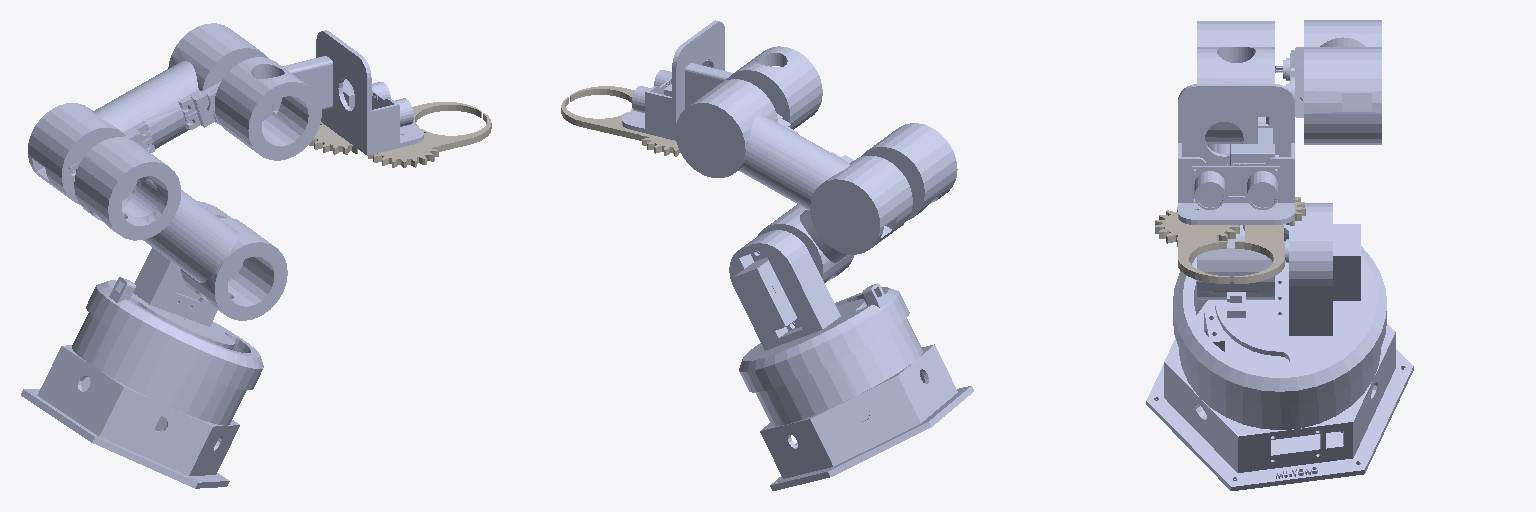
The robot description file, URDF, robot "urdfmulyono":
<?xml version="1.0" encoding="utf-8"?>
<!-- This URDF was automatically created by SolidWorks to URDF Exporter! Originally created by [author] ([email redacted]) 
     Commit Version: 1.6.0-4-g7f85cfe  Build Version: 1.6.7995.38578
     For more information, please see http://wiki.ros.org/sw_urdf_exporter -->
<robot
  name="urdfmulyono">
  <link
    name="base_link">
    <inertial>
      <origin
        xyz="0.0166937833046382 -0.000309862305232422 0.0299743788723315"
        rpy="0 0 0" />
      <mass
        value="0.15690853286764" />
      <inertia
        ixx="0.00026569633360328"
        ixy="1.30405420561727E-06"
        ixz="5.14473532048672E-05"
        iyy="0.000229112300024644"
        iyz="-6.51632992399048E-07"
        izz="0.000326564872640199" />
    </inertial>
    <visual>
      <origin
        xyz="0 0 0"
        rpy="0 0 0" />
      <geometry>
        <mesh
          filename="package://urdfmulyono/meshes/base_link.STL" />
      </geometry>
      <material
        name="">
        <color
          rgba="0.792156862745098 0.819607843137255 0.933333333333333 1" />
      </material>
    </visual>
    <collision>
      <origin
        xyz="0 0 0"
        rpy="0 0 0" />
      <geometry>
        <mesh
          filename="package://urdfmulyono/meshes/base_link.STL" />
      </geometry>
    </collision>
  </link>
  <link
    name="link1">
    <inertial>
      <origin
        xyz="0.00914323497729499 0.0132973747425829 0.0162178486493966"
        rpy="0 0 0" />
      <mass
        value="0.110824441479" />
      <inertia
        ixx="8.65028339256001E-05"
        ixy="-4.62264305472077E-06"
        ixz="2.67580443033616E-07"
        iyy="9.13032174360508E-05"
        iyz="-7.40703304618567E-06"
        izz="8.7195731149544E-05" />
    </inertial>
    <visual>
      <origin
        xyz="0 0 0"
        rpy="0 0 0" />
      <geometry>
        <mesh
          filename="package://urdfmulyono/meshes/link1.STL" />
      </geometry>
      <material
        name="">
        <color
          rgba="0.792156862745098 0.819607843137255 0.933333333333333 1" />
      </material>
    </visual>
    <collision>
      <origin
        xyz="0 0 0"
        rpy="0 0 0" />
      <geometry>
        <mesh
          filename="package://urdfmulyono/meshes/link1.STL" />
      </geometry>
    </collision>
  </link>
  <joint
    name="joint1"
    type="revolute">
    <origin
      xyz="0.040938 0 0.069894"
      rpy="0 0 0" />
    <parent
      link="base_link" />
    <child
      link="link1" />
    <axis
      xyz="-0.5054 0 -0.86288" />
    <limit
      lower="-3.14"
      upper="3.14"
      effort="1.08"
      velocity="7.48" />
  </joint>
  <link
    name="link2">
    <inertial>
      <origin
        xyz="-0.0351867055247956 0.0212735978679839 -0.0349408015164657"
        rpy="0 0 0" />
      <mass
        value="0.120061907266315" />
      <inertia
        ixx="0.000154939294692805"
        ixy="-1.27374892303535E-07"
        ixz="-0.000119330328213792"
        iyy="0.000284291373566287"
        iyz="6.08124993287784E-08"
        izz="0.000165817658815422" />
    </inertial>
    <visual>
      <origin
        xyz="0 0 0"
        rpy="0 0 0" />
      <geometry>
        <mesh
          filename="package://urdfmulyono/meshes/link2.STL" />
      </geometry>
      <material
        name="">
        <color
          rgba="0.792156862745098 0.819607843137255 0.933333333333333 1" />
      </material>
    </visual>
    <collision>
      <origin
        xyz="0 0 0"
        rpy="0 0 0" />
      <geometry>
        <mesh
          filename="package://urdfmulyono/meshes/link2.STL" />
      </geometry>
    </collision>
  </link>
  <joint
    name="joint2"
    type="revolute">
    <origin
      xyz="0.021275 0 0.036474"
      rpy="-3.1416 0 0" />
    <parent
      link="link1" />
    <child
      link="link2" />
    <axis
      xyz="0 -1 0" />
    <limit
      lower="-3.14"
      upper="3.14"
      effort="1.08"
      velocity="7.48" />
  </joint>
  <link
    name="link3">
    <inertial>
      <origin
        xyz="0.0477530624149685 0.0301358791840253 0.0148377529080409"
        rpy="0 0 0" />
      <mass
        value="0.207694596845151" />
      <inertia
        ixx="8.03357037303349E-05"
        ixy="4.74028191276957E-12"
        ixz="-8.08420035425255E-05"
        iyy="0.000347203357159494"
        iyz="-6.52181268920224E-12"
        izz="0.000317420355935025" />
    </inertial>
    <visual>
      <origin
        xyz="0 0 0"
        rpy="0 0 0" />
      <geometry>
        <mesh
          filename="package://urdfmulyono/meshes/link3.STL" />
      </geometry>
      <material
        name="">
        <color
          rgba="0.792156862745098 0.819607843137255 0.933333333333333 1" />
      </material>
    </visual>
    <collision>
      <origin
        xyz="0 0 0"
        rpy="0 0 0" />
      <geometry>
        <mesh
          filename="package://urdfmulyono/meshes/link3.STL" />
      </geometry>
    </collision>
  </link>
  <joint
    name="joint3"
    type="revolute">
    <origin
      xyz="-0.072317 0 -0.069067"
      rpy="3.1416 0 0" />
    <parent
      link="link2" />
    <child
      link="link3" />
    <axis
      xyz="0 1 0" />
    <limit
      lower="-3.14"
      upper="3.14"
      effort="1.08"
      velocity="7.48" />
  </joint>
  <link
    name="link4">
    <inertial>
      <origin
        xyz="0.0267404166783254 -0.0205881276478526 -0.00631003307450173"
        rpy="0 0 0" />
      <mass
        value="0.0812195592569813" />
      <inertia
        ixx="3.43653679349045E-05"
        ixy="6.3312545886204E-07"
        ixz="1.14851435535687E-05"
        iyy="8.40003748377515E-05"
        iyz="-4.33159561547592E-07"
        izz="8.22060041409688E-05" />
    </inertial>
    <visual>
      <origin
        xyz="0 0 0"
        rpy="0 0 0" />
      <geometry>
        <mesh
          filename="package://urdfmulyono/meshes/link4.STL" />
      </geometry>
      <material
        name="">
        <color
          rgba="0.792156862745098 0.819607843137255 0.933333333333333 1" />
      </material>
    </visual>
    <collision>
      <origin
        xyz="0 0 0"
        rpy="0 0 0" />
      <geometry>
        <mesh
          filename="package://urdfmulyono/meshes/link4.STL" />
      </geometry>
    </collision>
  </link>
  <joint
    name="joint4"
    type="revolute">
    <origin
      xyz="0.095506 0 0.029675"
      rpy="0 0 0" />
    <parent
      link="link3" />
    <child
      link="link4" />
    <axis
      xyz="0 1 0" />
    <limit
      lower="-3.14"
      upper="3.14"
      effort="1.08"
      velocity="7.48" />
  </joint>
  <link
    name="gripmotor">
    <inertial>
      <origin
        xyz="0.0171980439053835 -0.000894797559375359 -0.00194711687305574"
        rpy="0 0 0" />
      <mass
        value="0.00764762460244494" />
      <inertia
        ixx="6.16365785437075E-07"
        ixy="2.35015677744722E-07"
        ixz="2.9511076533564E-09"
        iyy="4.80510681079049E-06"
        iyz="-2.64742337248202E-10"
        izz="5.4011217056991E-06" />
    </inertial>
    <visual>
      <origin
        xyz="0 0 0"
        rpy="0 0 0" />
      <geometry>
        <mesh
          filename="package://urdfmulyono/meshes/gripmotor.STL" />
      </geometry>
      <material
        name="">
        <color
          rgba="0.776470588235294 0.756862745098039 0.737254901960784 1" />
      </material>
    </visual>
    <collision>
      <origin
        xyz="0 0 0"
        rpy="0 0 0" />
      <geometry>
        <mesh
          filename="package://urdfmulyono/meshes/gripmotor.STL" />
      </geometry>
    </collision>
  </link>
  <joint
    name="gripmotor"
    type="revolute">
    <origin
      xyz="0.059 -0.00871 -0.039"
      rpy="3.1416 0 0" />
    <parent
      link="link4" />
    <child
      link="gripmotor" />
    <axis
      xyz="0 0 1" />
    <limit
      lower="-3.14"
      upper="3.14"
      effort="0.21575"
      velocity="10.47" />
  </joint>
  <link
    name="end">
    <inertial>
      <origin
        xyz="-0.068885395938565 -0.0156614452707053 -0.00194711687305121"
        rpy="0 0 0" />
      <mass
        value="0.00764762460244494" />
      <inertia
        ixx="6.16365785437075E-07"
        ixy="2.35015677744722E-07"
        ixz="2.95110765335556E-09"
        iyy="4.80510681079049E-06"
        iyz="-2.64742337247382E-10"
        izz="5.4011217056991E-06" />
    </inertial>
    <visual>
      <origin
        xyz="0 0 0"
        rpy="0 0 0" />
      <geometry>
        <mesh
          filename="package://urdfmulyono/meshes/end.STL" />
      </geometry>
      <material
        name="">
        <color
          rgba="0.776470588235294 0.756862745098039 0.737254901960784 1" />
      </material>
    </visual>
    <collision>
      <origin
        xyz="0 0 0"
        rpy="0 0 0" />
      <geometry>
        <mesh
          filename="package://urdfmulyono/meshes/end.STL" />
      </geometry>
    </collision>
  </link>
  <joint
    name="end"
    type="fixed">
    <origin
      xyz="0.0860834398439485 0.0147666477113299 0"
      rpy="0 0 0" />
    <parent
      link="gripmotor" />
    <child
      link="end" />
    <axis
      xyz="0 0 0" />
  </joint>
  <link
    name="gripikut">
    <inertial>
      <origin
        xyz="0.00858720008516745 0.000597927867532717 -0.00199999999994283"
        rpy="0 0 0" />
      <mass
        value="0.00641643405685645" />
      <inertia
        ixx="5.53159974859924E-07"
        ixy="-9.4933452454066E-08"
        ixz="-5.50915522850117E-19"
        iyy="2.24107290854717E-06"
        iyz="-2.37362843543324E-20"
        izz="2.77712239258881E-06" />
    </inertial>
    <visual>
      <origin
        xyz="0 0 0"
        rpy="0 0 0" />
      <geometry>
        <mesh
          filename="package://urdfmulyono/meshes/gripikut.STL" />
      </geometry>
      <material
        name="">
        <color
          rgba="0.776470588235294 0.756862745098039 0.737254901960784 1" />
      </material>
    </visual>
    <collision>
      <origin
        xyz="0 0 0"
        rpy="0 0 0" />
      <geometry>
        <mesh
          filename="package://urdfmulyono/meshes/gripikut.STL" />
      </geometry>
    </collision>
  </link>
  <joint
    name="gripikut"
    type="revolute">
    <origin
      xyz="0.08 -0.04241 -0.039"
      rpy="3.1416 0 0" />
    <parent
      link="link4" />
    <child
      link="gripikut" />
    <axis
      xyz="0 0 -1" />
    <limit
      lower="-3.14"
      upper="3.14"
      effort="0.21575"
      velocity="10.47" />
  </joint>
  <link
    name="end2">
    <inertial>
      <origin
        xyz="-0.0564718044587114 0.0172186507084496 -0.00199999999993838"
        rpy="0 0 0" />
      <mass
        value="0.00641643405685645" />
      <inertia
        ixx="5.53159974859924E-07"
        ixy="-9.4933452454066E-08"
        ixz="-5.50941992629719E-19"
        iyy="2.24107290854717E-06"
        iyz="-2.37329756318822E-20"
        izz="2.77712239258881E-06" />
    </inertial>
    <visual>
      <origin
        xyz="0 0 0"
        rpy="0 0 0" />
      <geometry>
        <mesh
          filename="package://urdfmulyono/meshes/end2.STL" />
      </geometry>
      <material
        name="">
        <color
          rgba="0.776470588235294 0.756862745098039 0.737254901960784 1" />
      </material>
    </visual>
    <collision>
      <origin
        xyz="0 0 0"
        rpy="0 0 0" />
      <geometry>
        <mesh
          filename="package://urdfmulyono/meshes/end2.STL" />
      </geometry>
    </collision>
  </link>
  <joint
    name="end2"
    type="fixed">
    <origin
      xyz="0.0650590045438788 -0.0166207228409168 0"
      rpy="0 0 0" />
    <parent
      link="gripikut" />
    <child
      link="end2" />
    <axis
      xyz="0 0 0" />
  </joint>
</robot>

--- Facts derived from the render (not from the file) ---
The picture shows the robot from 3 angles, left to right: view 1: azimuth 30°, elevation 25°; view 2: azimuth 150°, elevation 25°; view 3: azimuth 270°, elevation 25°; orthographic projection.
Model urdfmulyono with 9 links and 8 joints (6 revolute, 2 fixed), rooted at base_link, posed all joints at 0.
Links seen in each view (by area): view 1: base_link, link2, link4, link3, link1, gripikut, gripmotor, end2; view 2: base_link, link3, link1, link4, link2, gripmotor, gripikut; view 3: link1, base_link, link4, link3, link2, gripikut, gripmotor.
Link boxes in pixels (box(x1,y1,x2,y2)): base_link: box(21, 313, 246, 488); link2: box(74, 137, 287, 320); link4: box(215, 30, 423, 160); link3: box(28, 23, 268, 204); link1: box(86, 201, 263, 389); gripikut: box(368, 113, 491, 167); gripmotor: box(309, 102, 481, 154); end2: box(373, 114, 490, 167); base_link: box(755, 300, 973, 490); link3: box(675, 79, 912, 254); link1: box(729, 230, 909, 392); link4: box(622, 20, 822, 140); link2: box(757, 123, 957, 282); gripmotor: box(561, 97, 680, 156); gripikut: box(570, 86, 634, 109); link1: box(1173, 203, 1386, 406); base_link: box(1146, 233, 1413, 490); link4: box(1178, 47, 1294, 224); link3: box(1275, 20, 1381, 144); link2: box(1197, 21, 1274, 317); gripikut: box(1155, 207, 1239, 283); gripmotor: box(1234, 197, 1305, 283).
Size in the robot's own frame: 0.2862 by 0.1369 by 0.2678 metres.
Meshes: 9 distinct files referenced, 9 mesh visuals loaded (9 binary STL).
